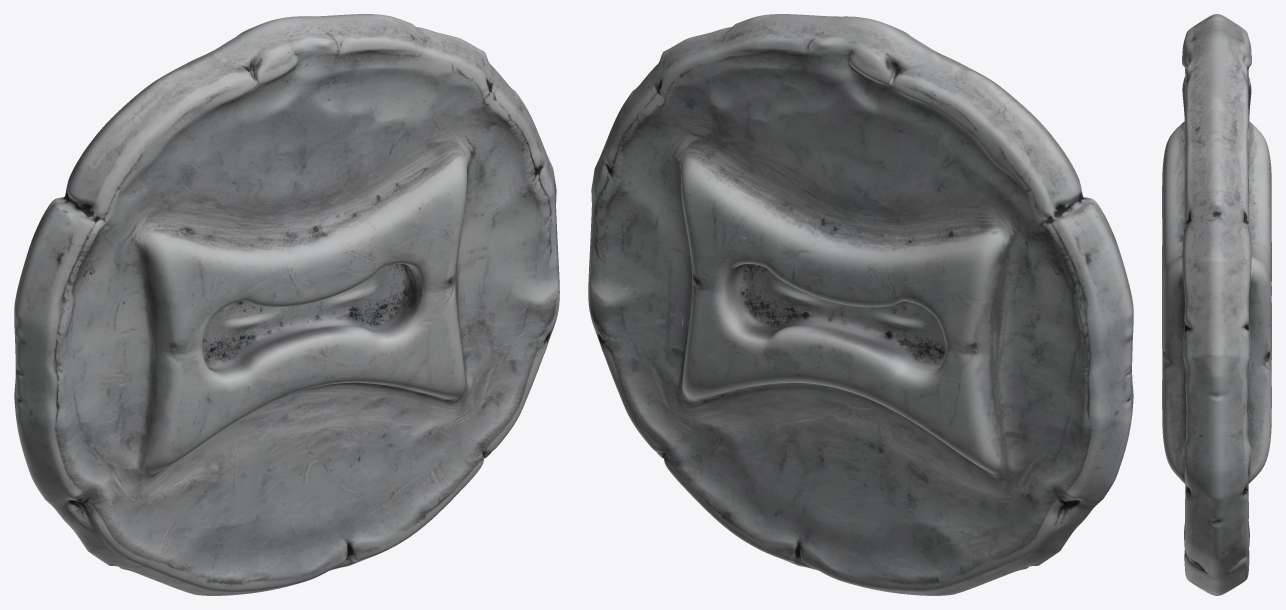
Rendered from melius-coin-web.glb.
3 views of the same model, side by side, from view 1: azimuth 30°, elevation 25°; view 2: azimuth 150°, elevation 25°; view 3: azimuth 270°, elevation 25° (orthographic). The views are drawn at different scales.
Visible parts, largest first — view 1: material; view 2: material; view 3: material.
Boxes of the visible parts, box(x1,y1,x2,y2) form: material: box(14, 14, 559, 595); material: box(588, 14, 1133, 595); material: box(1162, 14, 1271, 595).
Size of the model in its own units: 1.17 by 1.17 by 0.2229.
Materials: 1 (1 with a texture image).
